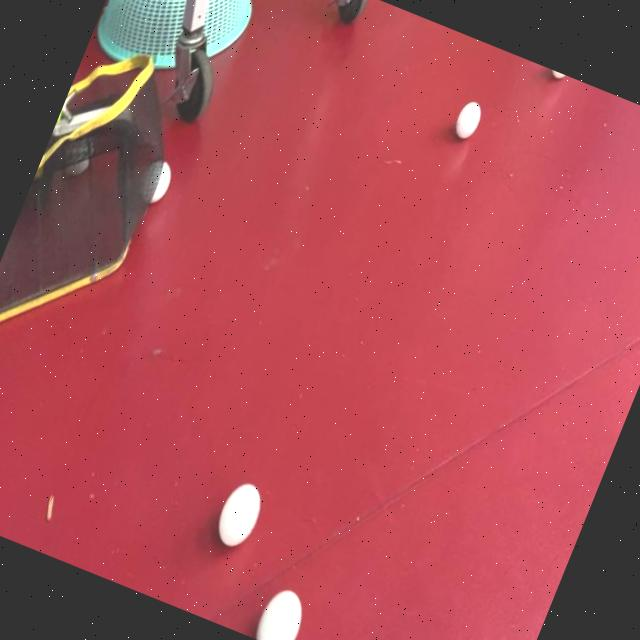ping-pong-ball: (206, 472, 271, 554), (249, 577, 314, 640), (446, 92, 488, 145)
